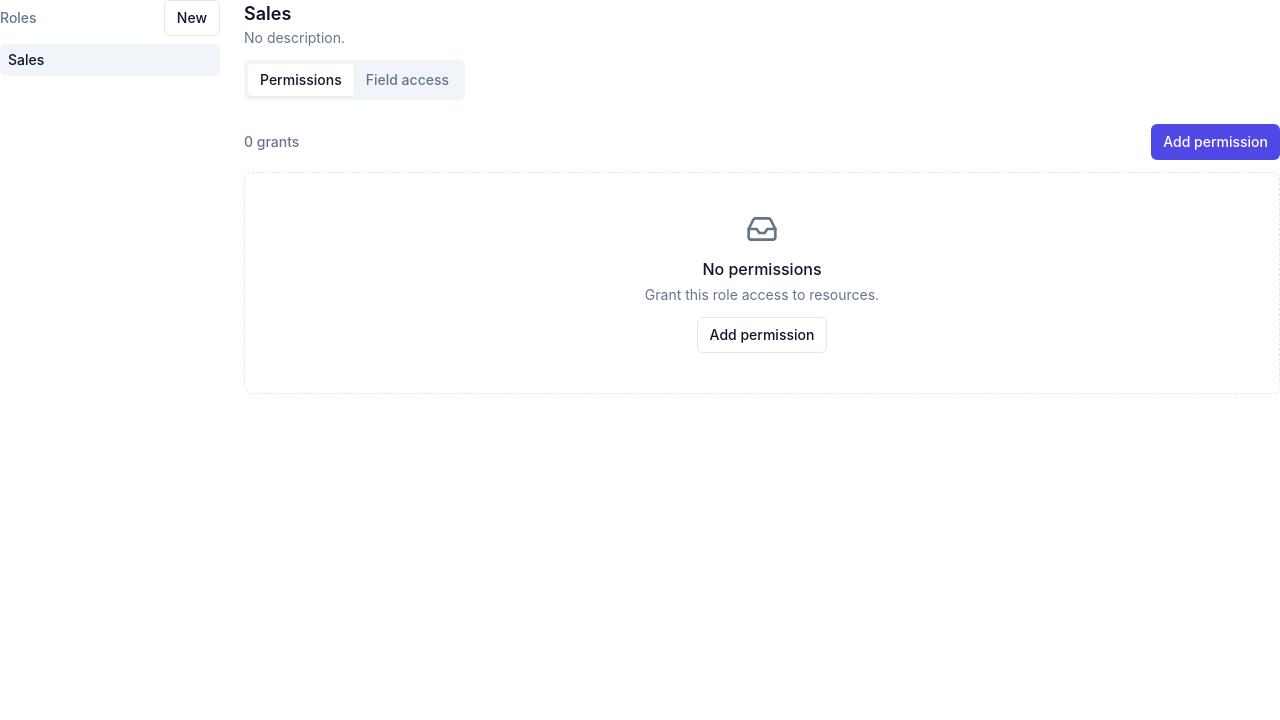
PermissionBuilder — create role › creates a role with a derived slug, toasts, and selects it (its grants are queried)
Click the button "New". click: point(192, 18)
box: [164,0,220,36]
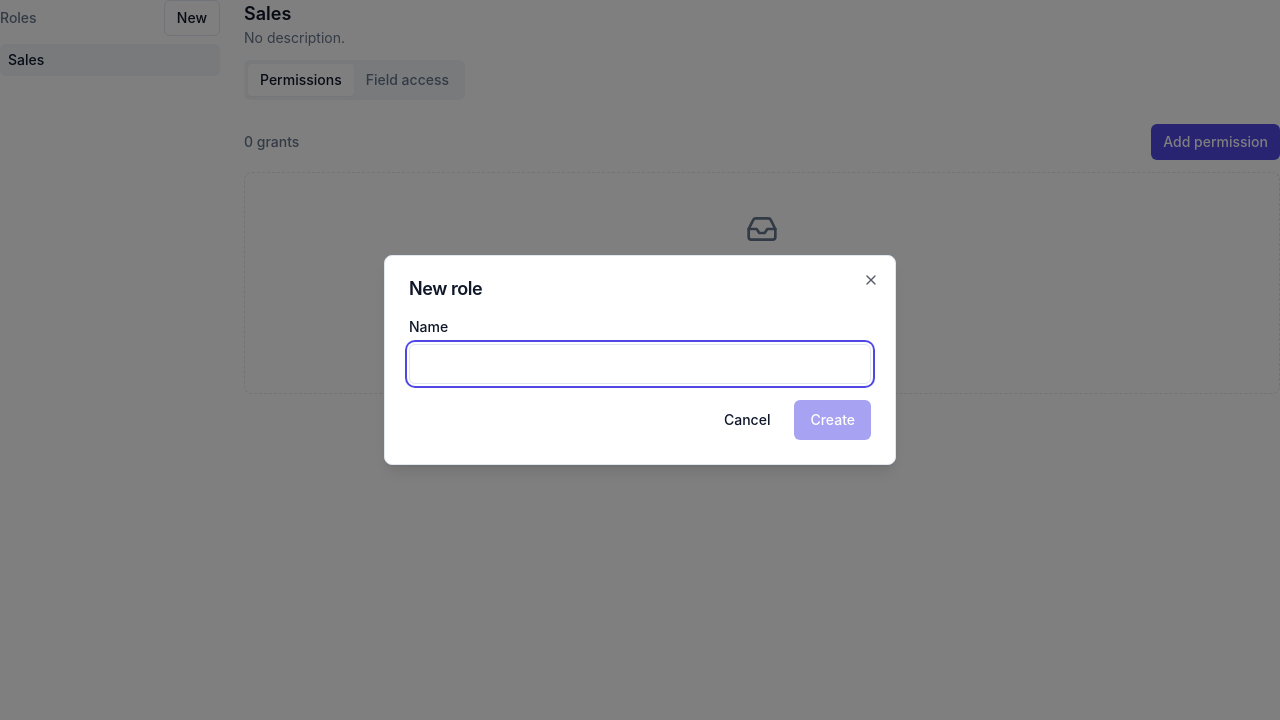
Now the button "Create" is disabled, box [794,400,871,440]
Type "Support Team" into the field labelled "Name". click: point(640, 364)
box: [409,344,871,384]
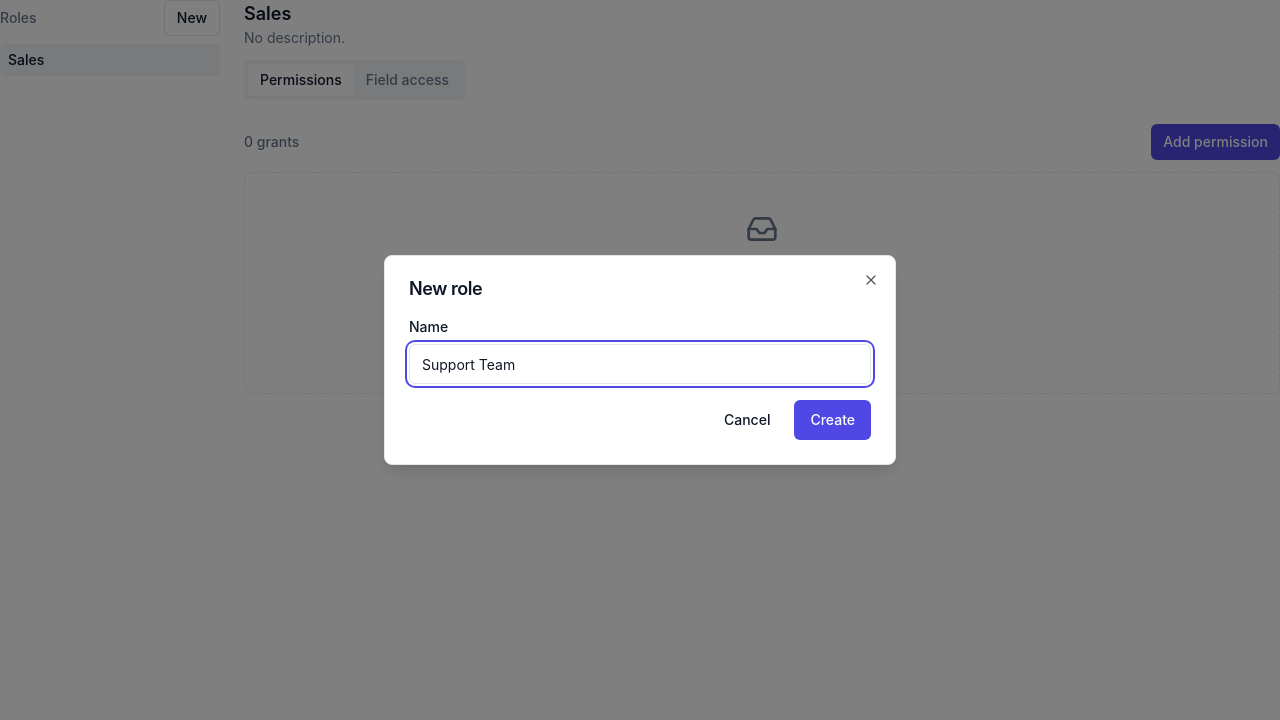
Now the button "Create" is enabled
Click the button "Create". click: point(833, 420)
box: [794,400,871,440]
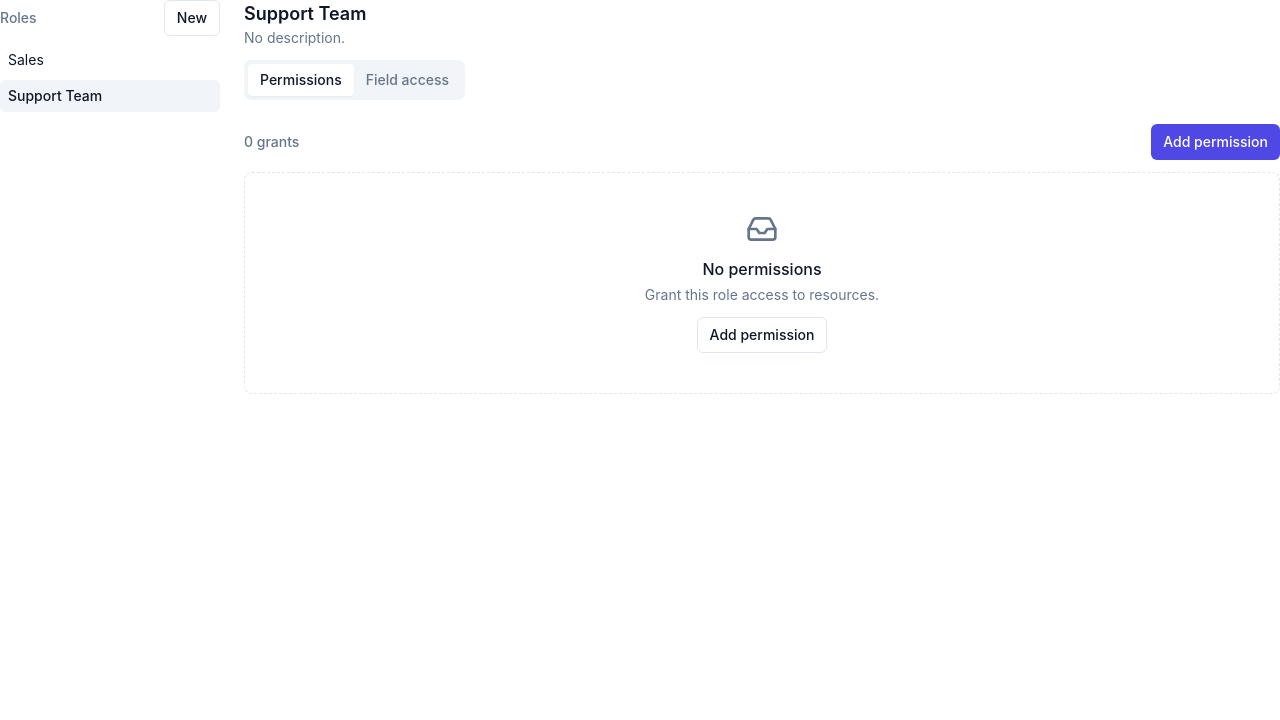
Now the heading "Support Team" is shown, box [244,3,366,24]
